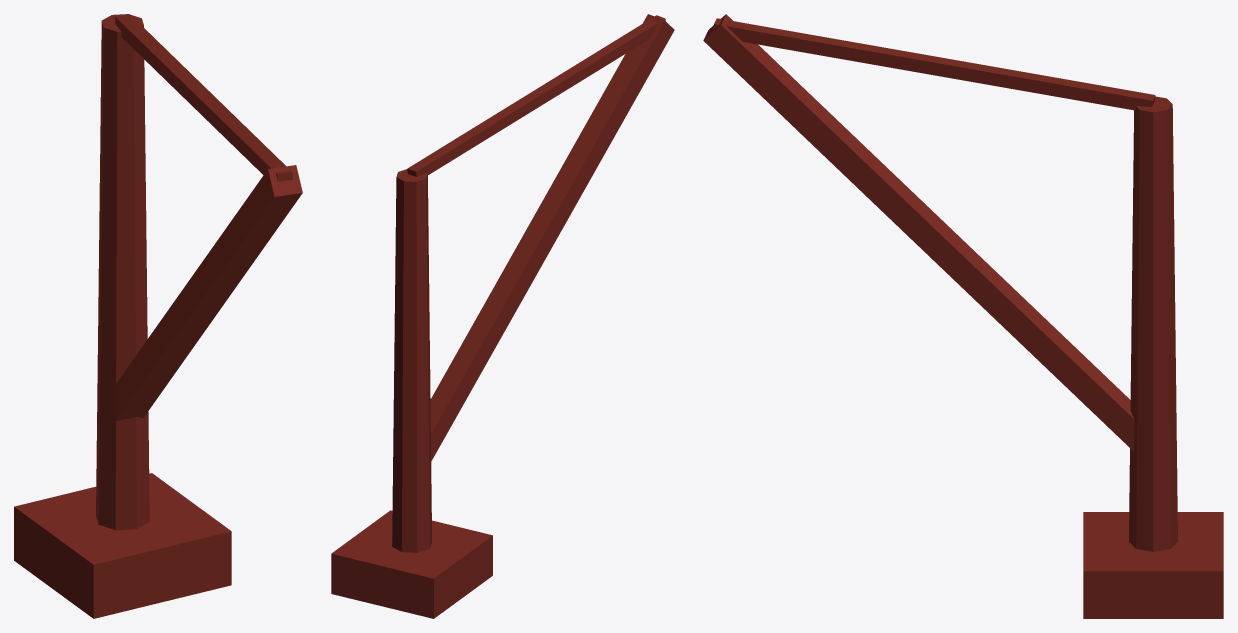
Rendered from prop_hand_crane.glb.
The picture shows the model from 3 angles, left to right: view 1: azimuth 30°, elevation 25°; view 2: azimuth 150°, elevation 25°; view 3: azimuth 270°, elevation 25°; orthographic projection. The views are drawn at different scales.
Visible parts, largest first — view 1: hand_crane; view 2: hand_crane; view 3: hand_crane.
Boxes of the visible parts, x1,y1,x2,y2 form: hand_crane: (14, 14, 302, 618); hand_crane: (331, 14, 674, 618); hand_crane: (703, 14, 1223, 618).
Bounding box in the file's own units: 1.97 × 6.71 × 5.93.
